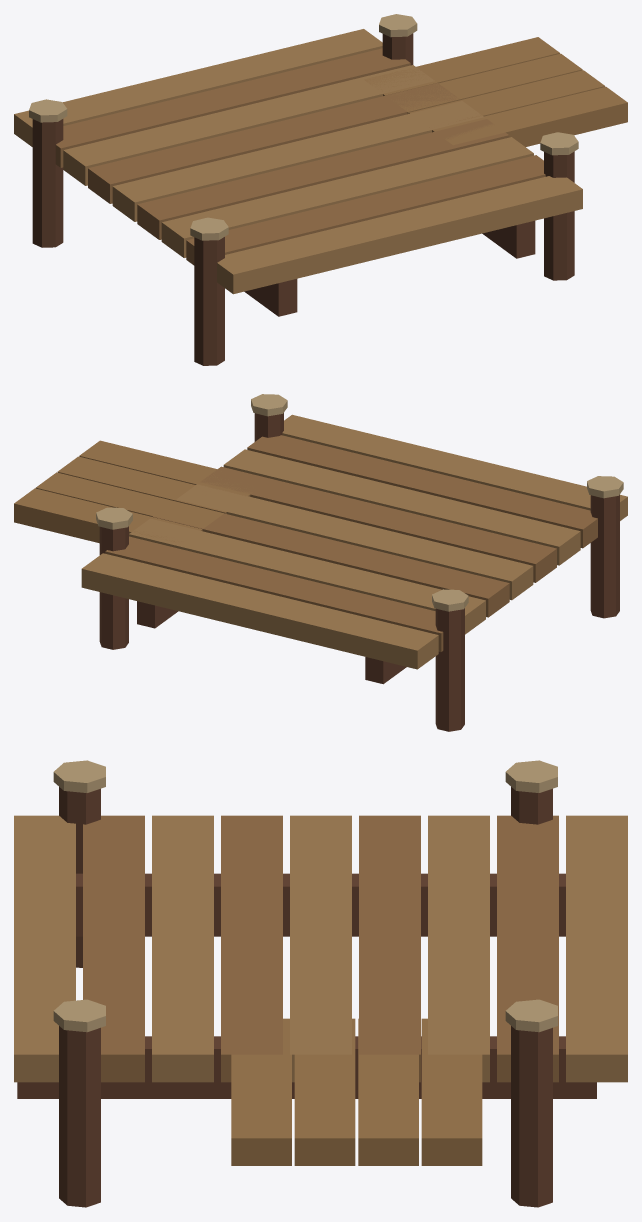
3 renders of one model, top to bottom at view 1: azimuth 30°, elevation 25°; view 2: azimuth 150°, elevation 25°; view 3: azimuth 270°, elevation 25°, orthographic. The views are drawn at different scales.
Visible parts, largest first — view 1: H04_宽头停泊台; view 2: H04_宽头停泊台; view 3: H04_宽头停泊台.
Part boxes in pixels (bbox=[...]): H04_宽头停泊台: bbox=[14, 14, 627, 365]; H04_宽头停泊台: bbox=[14, 394, 627, 731]; H04_宽头停泊台: bbox=[14, 760, 627, 1207].
Size of the model in its own units: 2.86 by 0.75 by 2.22.
